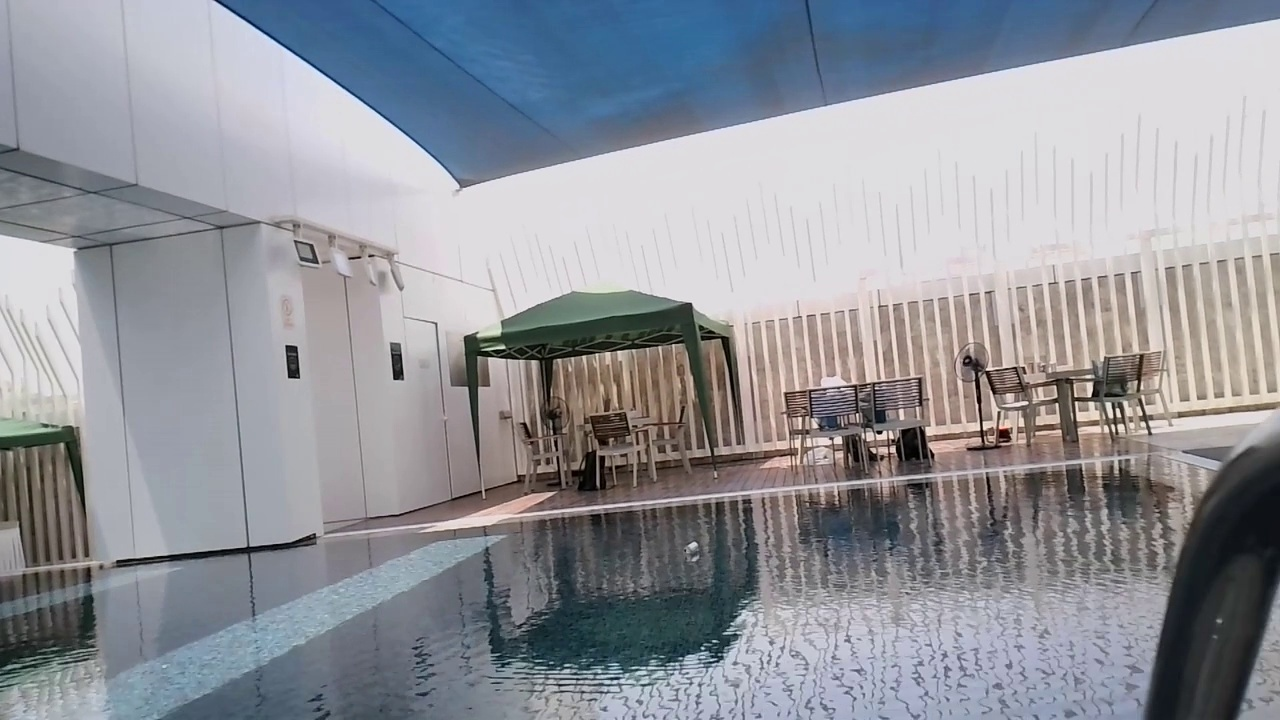debris: (681, 539, 702, 562)
